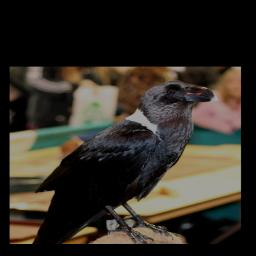Crow: (31, 79, 219, 244)
